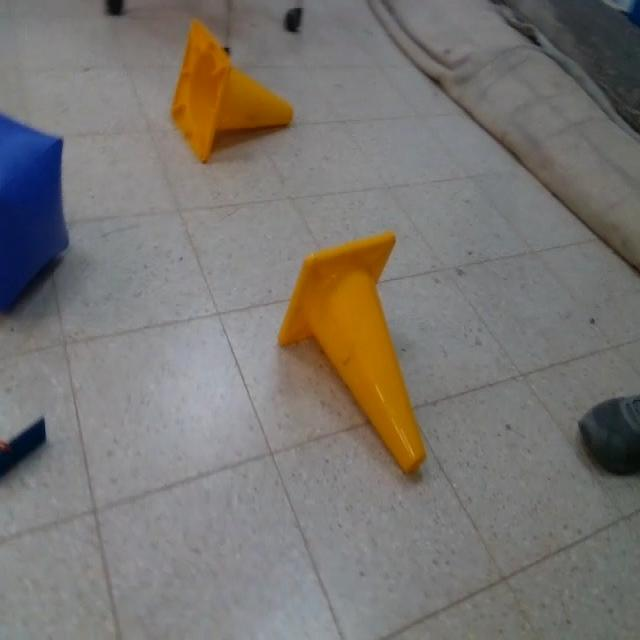cone: (278, 228, 424, 487), (173, 18, 293, 164)
cube: (0, 111, 67, 312)
